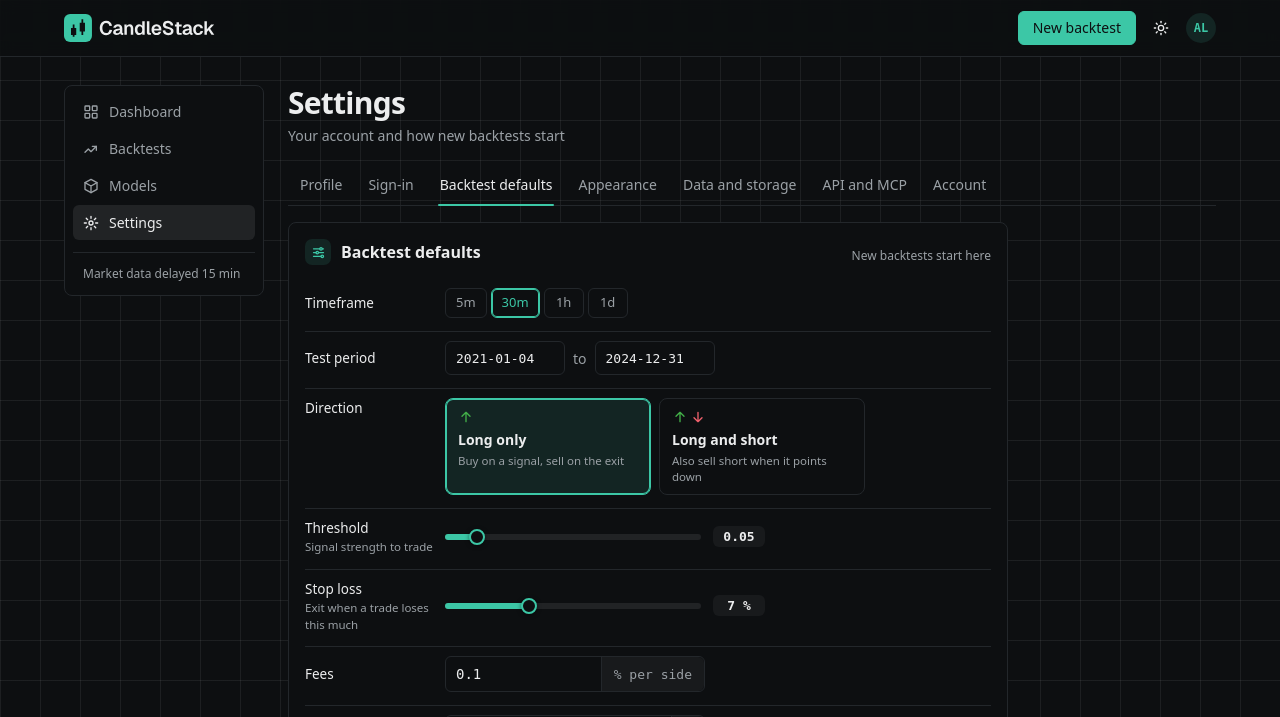
Scenario: Backtest defaults › says in plain words when the API refuses a value, not in the API's
Click the radio button labelled "1d". click: coordinates (608, 303)
box: [588, 288, 628, 318]
(page scrolled)
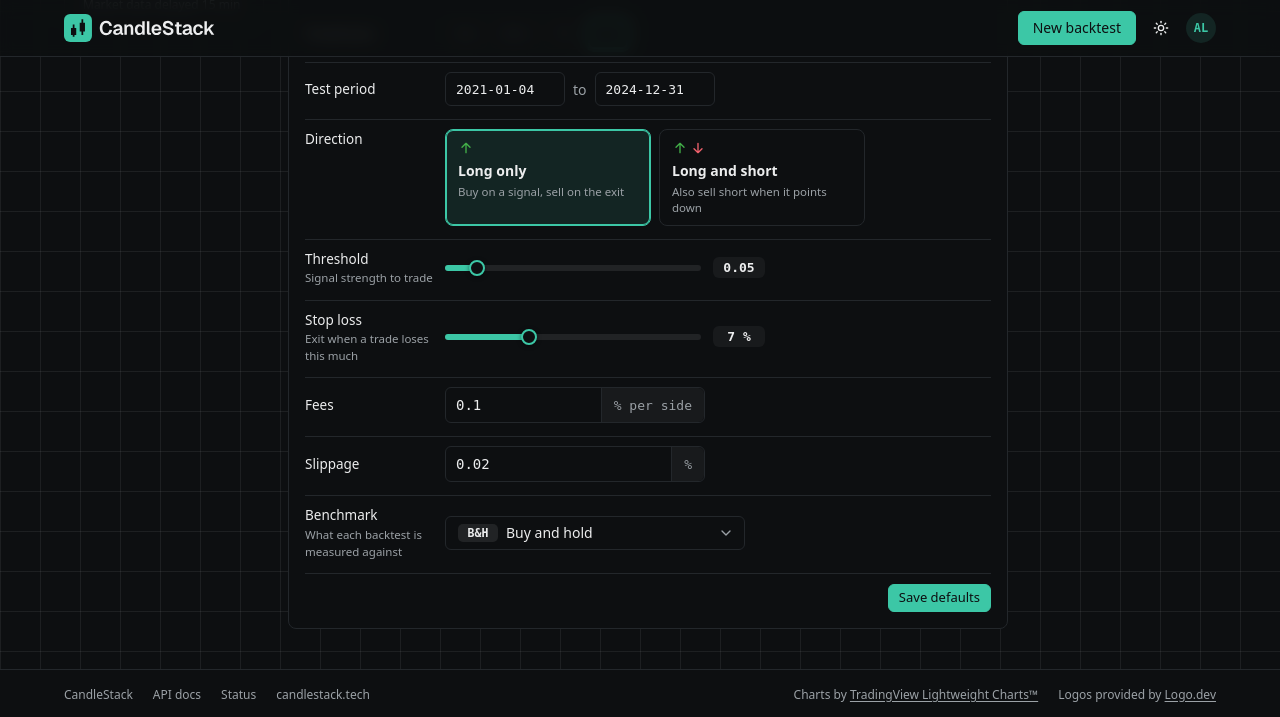
Click the button "Save defaults". click: coordinates (939, 598)
box: [888, 584, 991, 612]
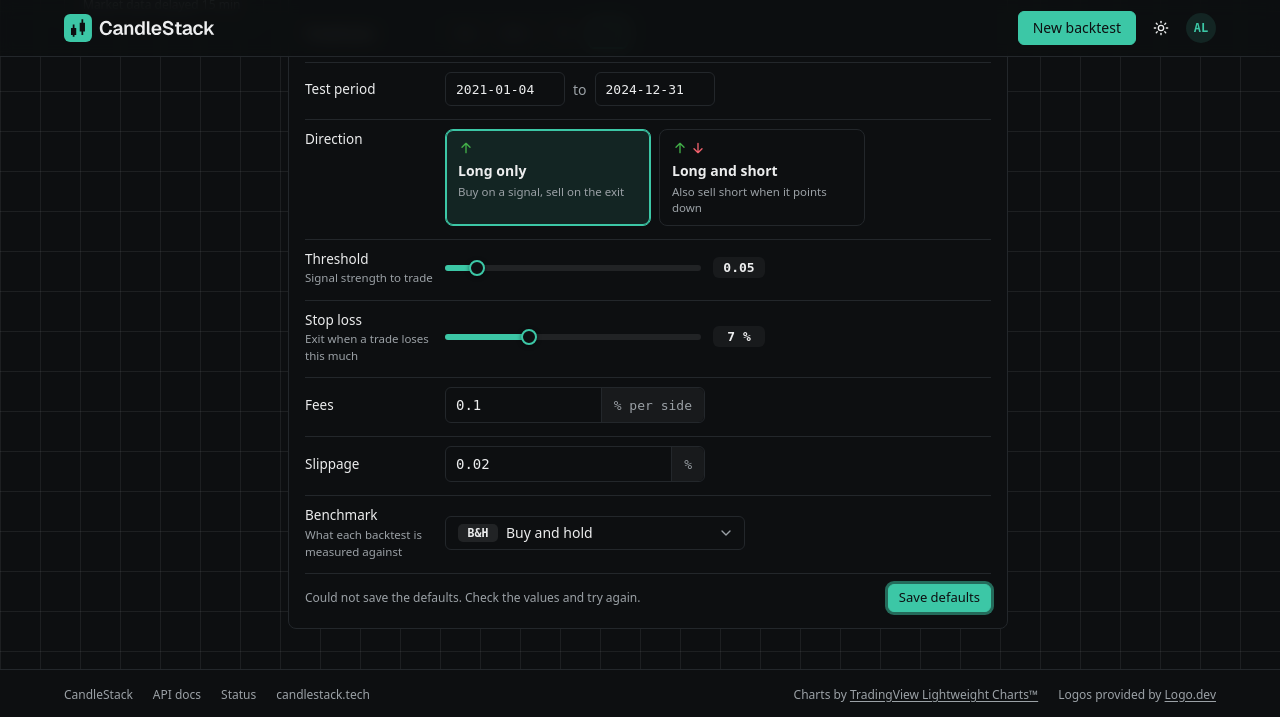
Check: the message reads "Could not save the defaults. Check the values and try again.", box [305, 589, 640, 606]
